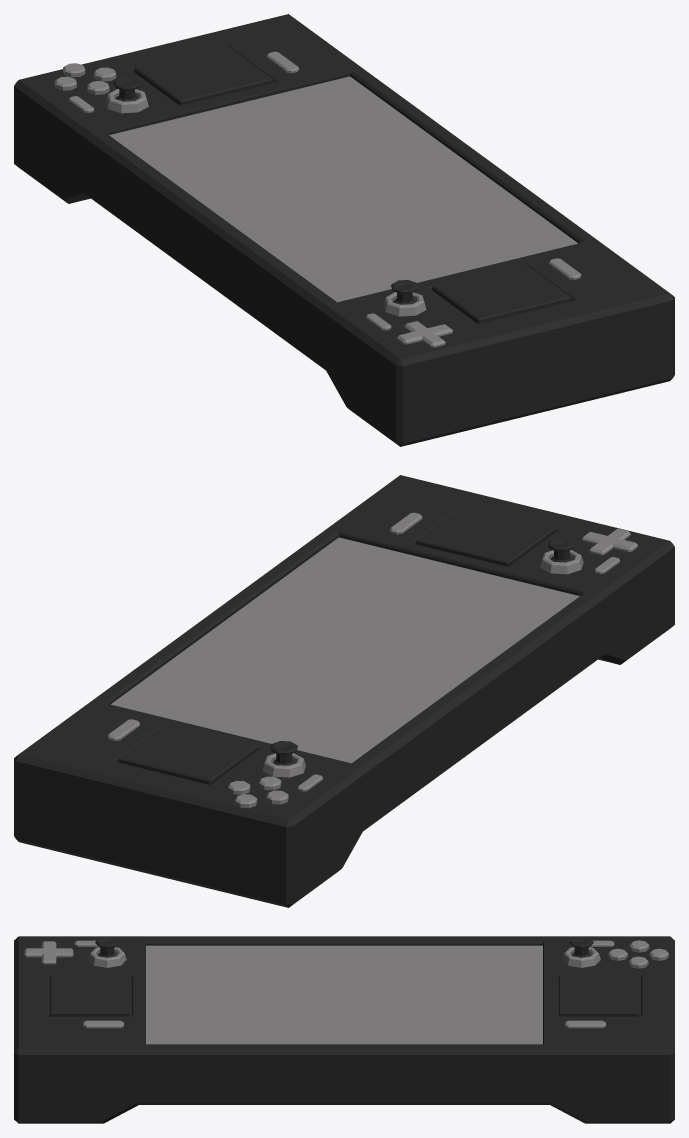
File: SM_Steamdeck.fbx
The picture shows the model from 3 angles, top to bottom: view 1: azimuth 30°, elevation 25°; view 2: azimuth 150°, elevation 25°; view 3: azimuth 270°, elevation 25°; orthographic projection. The views are drawn at different scales.
Visible parts, largest first — view 1: Cube.030; view 2: Cube.030; view 3: Cube.030.
Part boxes in pixels (bbox=[...]): Cube.030: bbox=[14, 14, 674, 446]; Cube.030: bbox=[14, 475, 674, 907]; Cube.030: bbox=[14, 936, 674, 1123].
Size of the model in its own units: 47.22 by 19.68 by 7.41.
